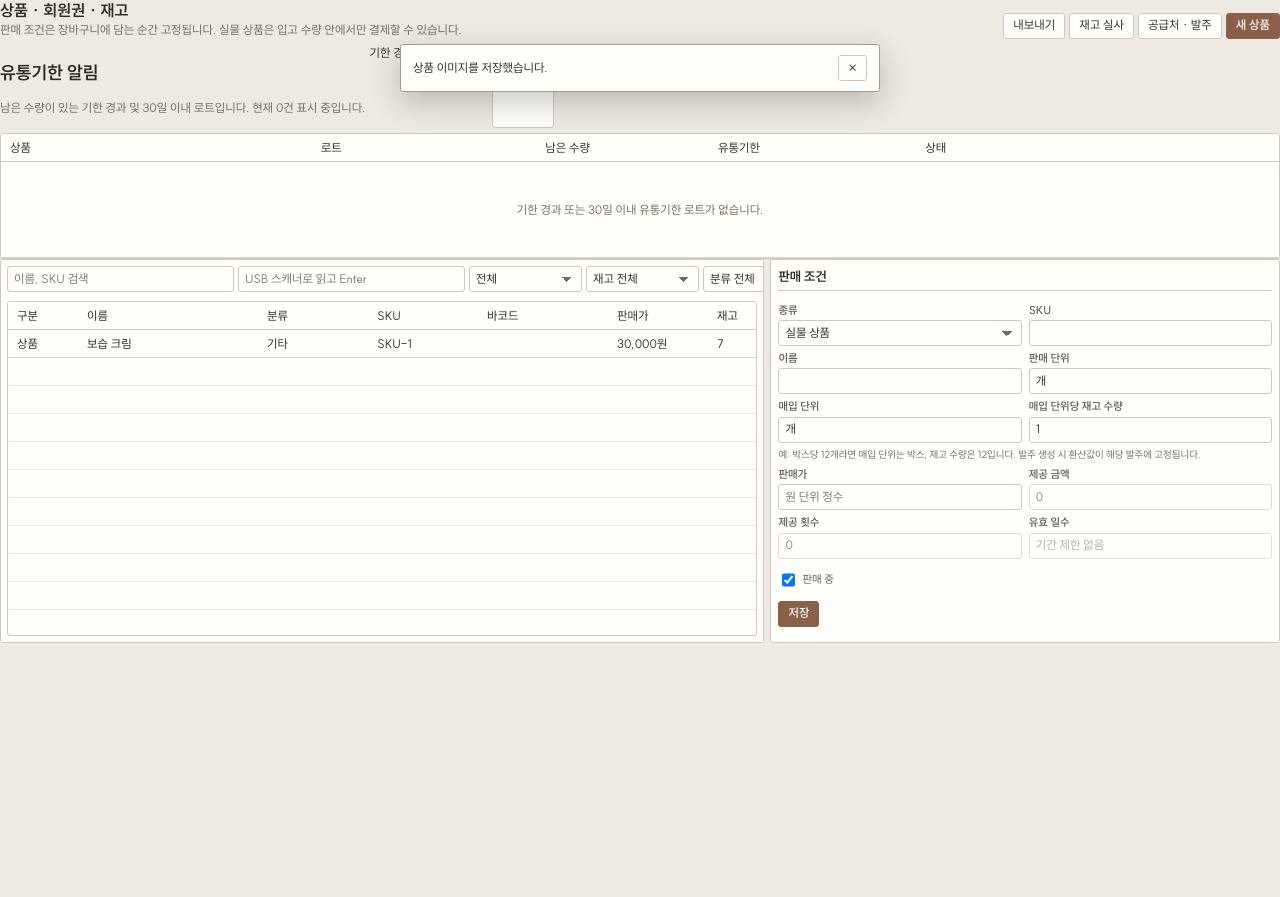
Scenario: InventoryPage › 선택한 상품을 수정하면 expected_version을 보낸다
Click the text "보습 크림". click: point(168, 344)
box: [78, 330, 258, 358]
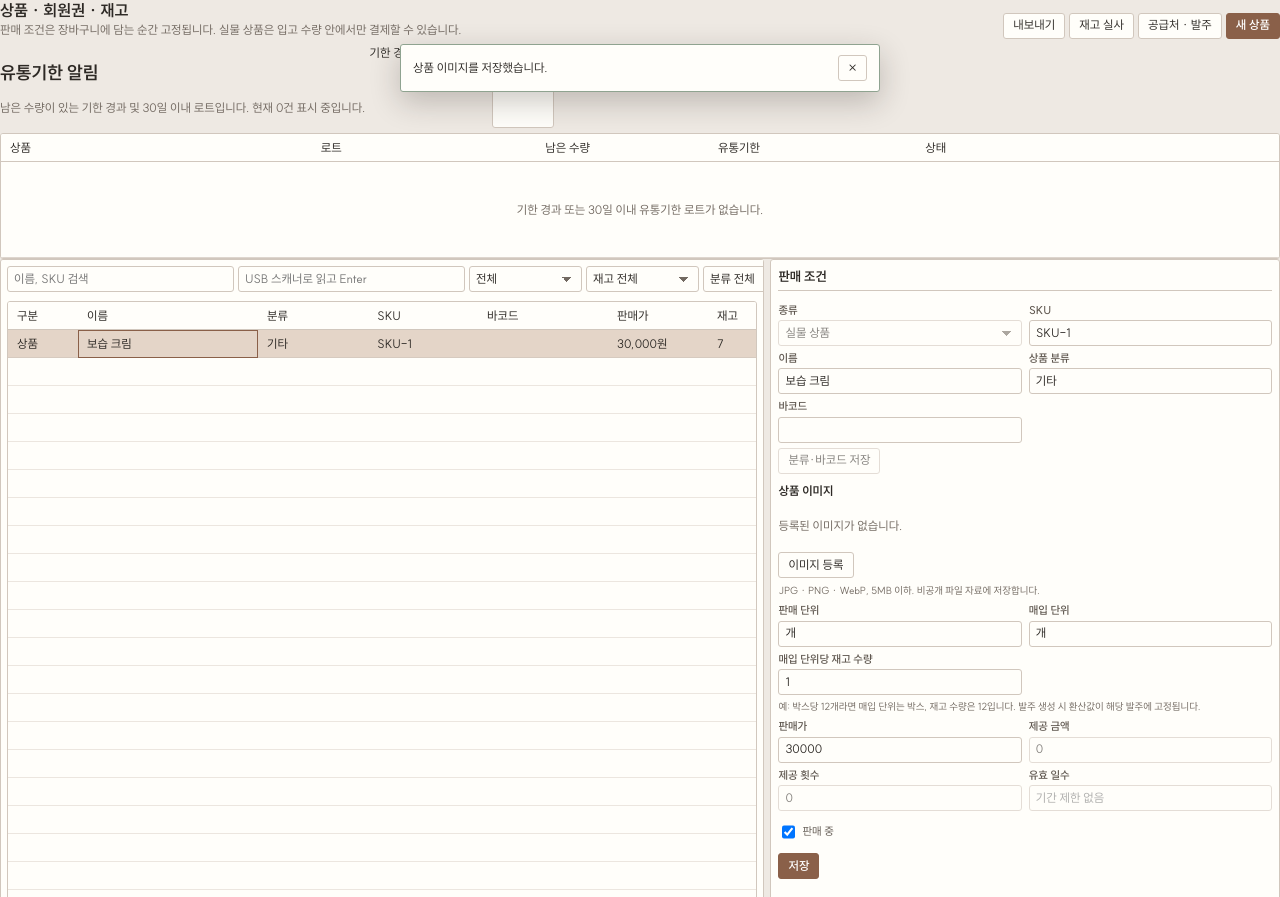
Now the field labelled "SKU" holds "SKU-1", box [1029, 320, 1272, 346]
Now the dropdown labelled "종류" is disabled, box [778, 320, 1022, 346]
Replace the text in the field labelled "이름" with "보습 크림 L". click: point(900, 381)
box: [778, 368, 1022, 394]
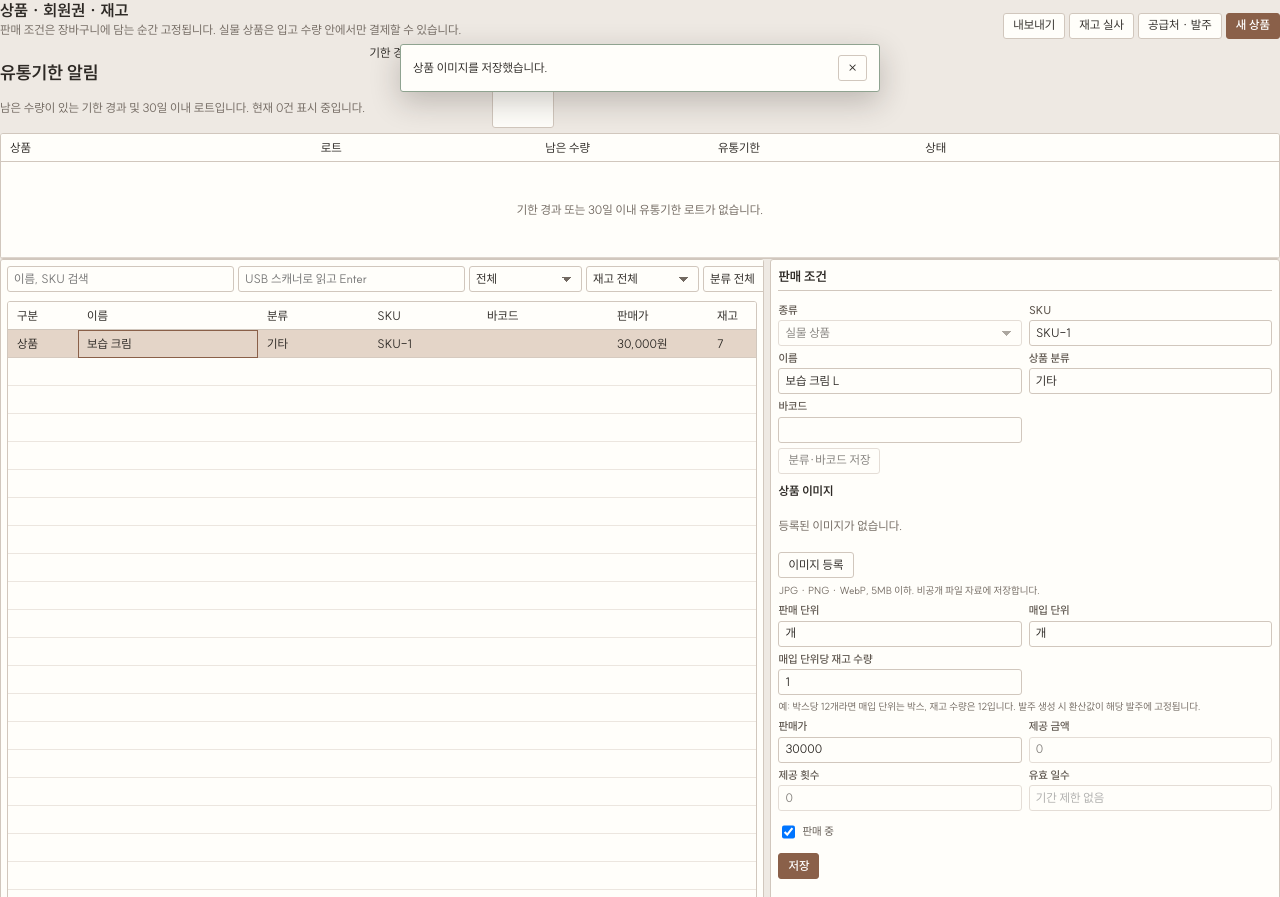
Click the button "저장". click: point(799, 866)
box: [778, 853, 819, 879]
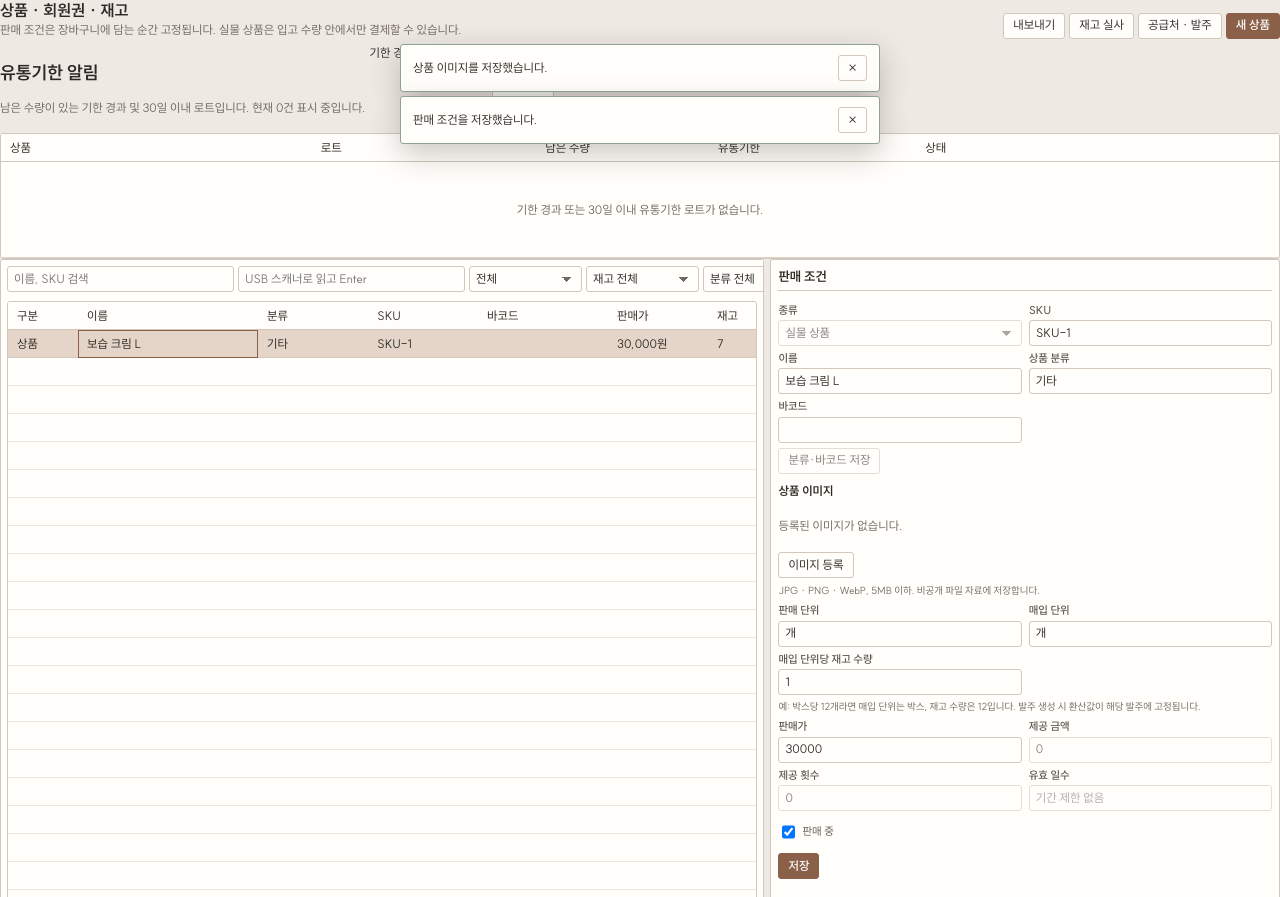
Now the text "보습 크림 L" is shown, box [78, 330, 258, 358]
